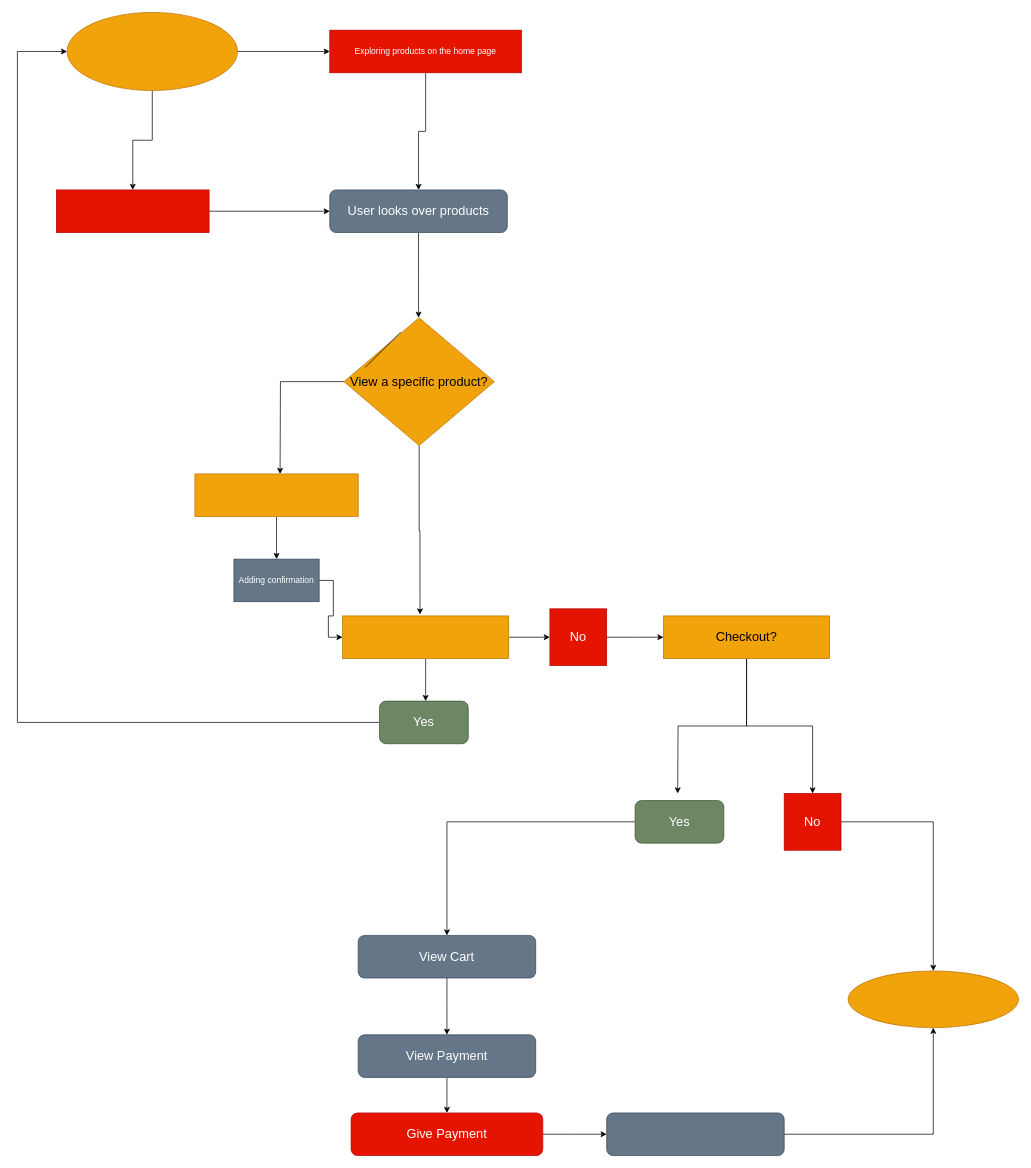
The diagram is 1031 pixels wide and 1168 high, and some of its shapes have lost their labels. Here are the shapes that lost their labels. From the top down, the centre of each, then its label:
At point 151,51: "User Enters the site".
At point 132,211: "Search for a product by entering input".
At point 276,495: "Adding items to cart".
At point 425,637: "Continue Shopping?".
At point 932,999: "User leaves the site".
At point 695,1134: "Order Confirmation".
